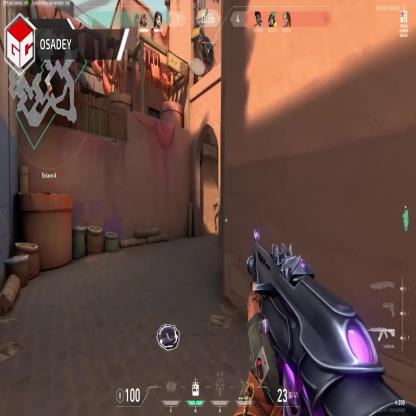enemy: (214, 195, 220, 232)
enemy_head: (215, 197, 219, 205)
